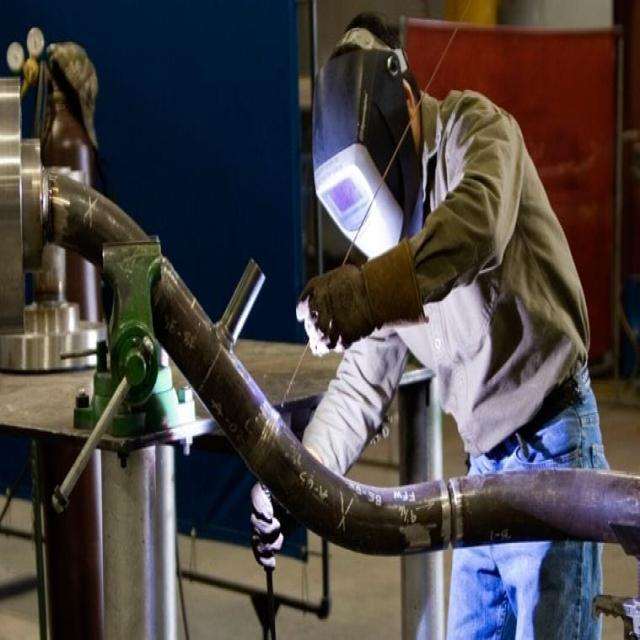with_helmet: (314, 42, 420, 258)
